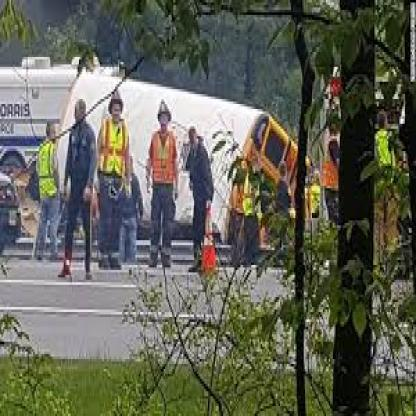accident: (71, 63, 350, 264)
